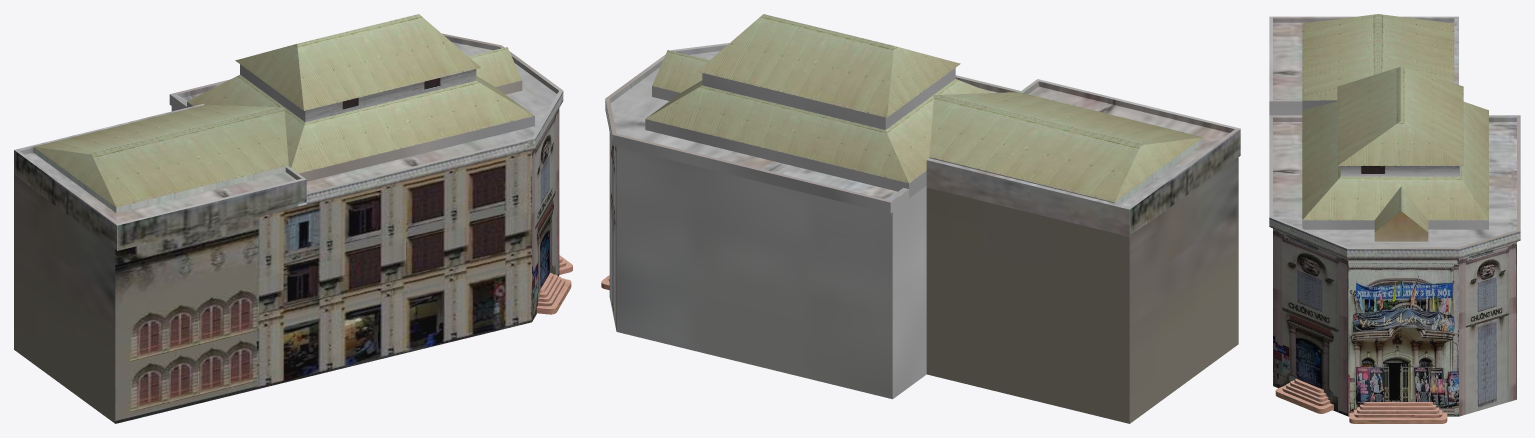
3 renders of one model, left to right at view 1: azimuth 30°, elevation 25°; view 2: azimuth 150°, elevation 25°; view 3: azimuth 270°, elevation 25°, orthographic. The views are drawn at different scales.
Parts seen in each view (by area): view 1: HN659_NhaHatCaiLuongHaNoi; view 2: HN659_NhaHatCaiLuongHaNoi; view 3: HN659_NhaHatCaiLuongHaNoi.
Boxes of the visible parts, bbox=[...] form: HN659_NhaHatCaiLuongHaNoi: bbox=[14, 14, 572, 423]; HN659_NhaHatCaiLuongHaNoi: bbox=[601, 14, 1240, 423]; HN659_NhaHatCaiLuongHaNoi: bbox=[1269, 14, 1520, 423].
Size of the model in its own units: 36.11 by 18.44 by 17.09.
1 material, 1 textured.
